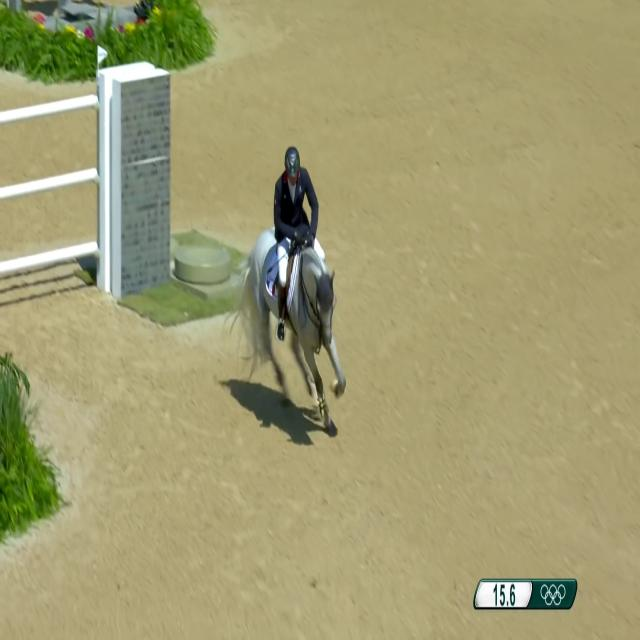Horse Rider: (266, 108, 335, 370)
Horse Running: (243, 214, 360, 459)
